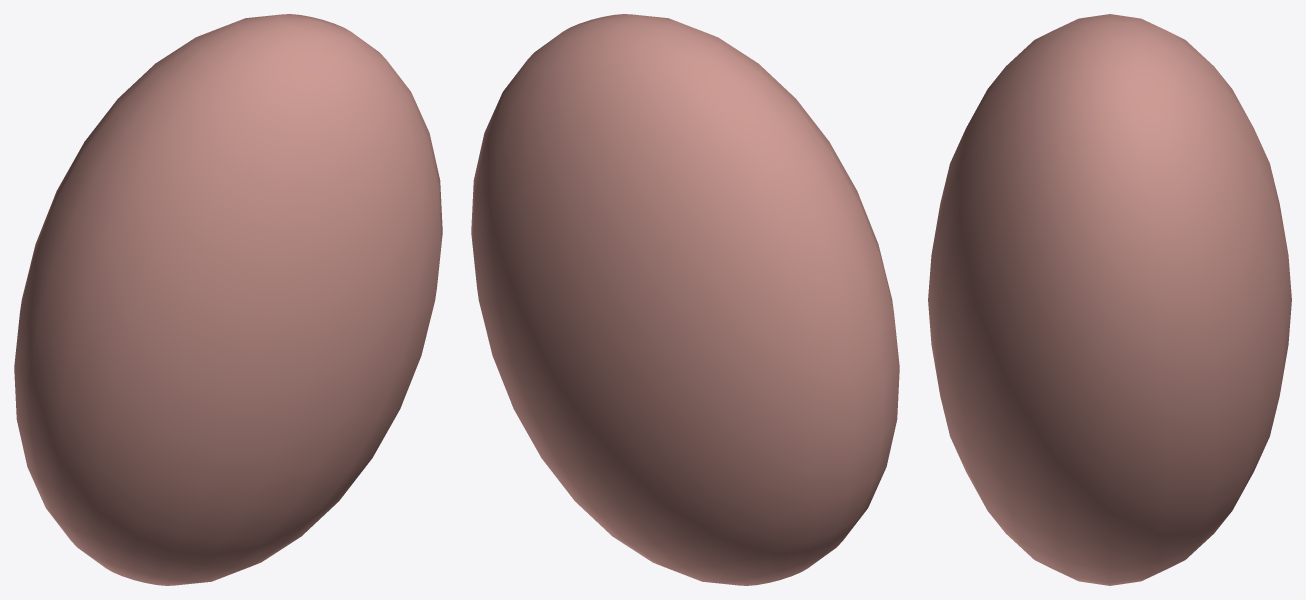
File: stomach.glb
The picture shows the model from 3 angles, left to right: view 1: azimuth 30°, elevation 25°; view 2: azimuth 150°, elevation 25°; view 3: azimuth 270°, elevation 25°; orthographic projection. The views are drawn at different scales.
Visible parts, largest first — view 1: stomach-303; view 2: stomach-303; view 3: stomach-303.
Boxes of the visible parts, <box> form: stomach-303: <box>14,14,442,585</box>; stomach-303: <box>471,14,899,585</box>; stomach-303: <box>928,14,1291,585</box>.
Size of the model in its own units: 0.3587 by 0.4577 by 0.262.
